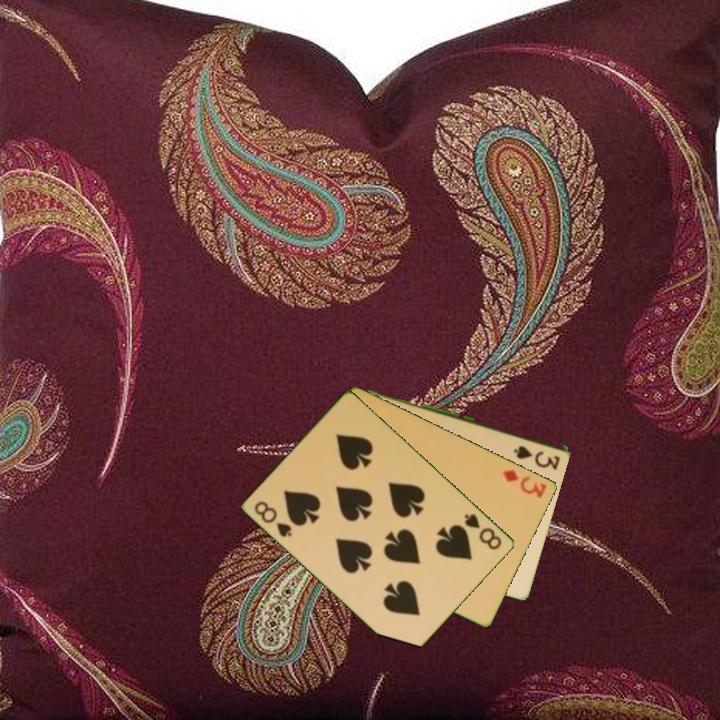3d: (500, 465, 550, 500)
3s: (510, 442, 563, 469)
8s: (461, 510, 505, 553), (251, 497, 295, 540)
